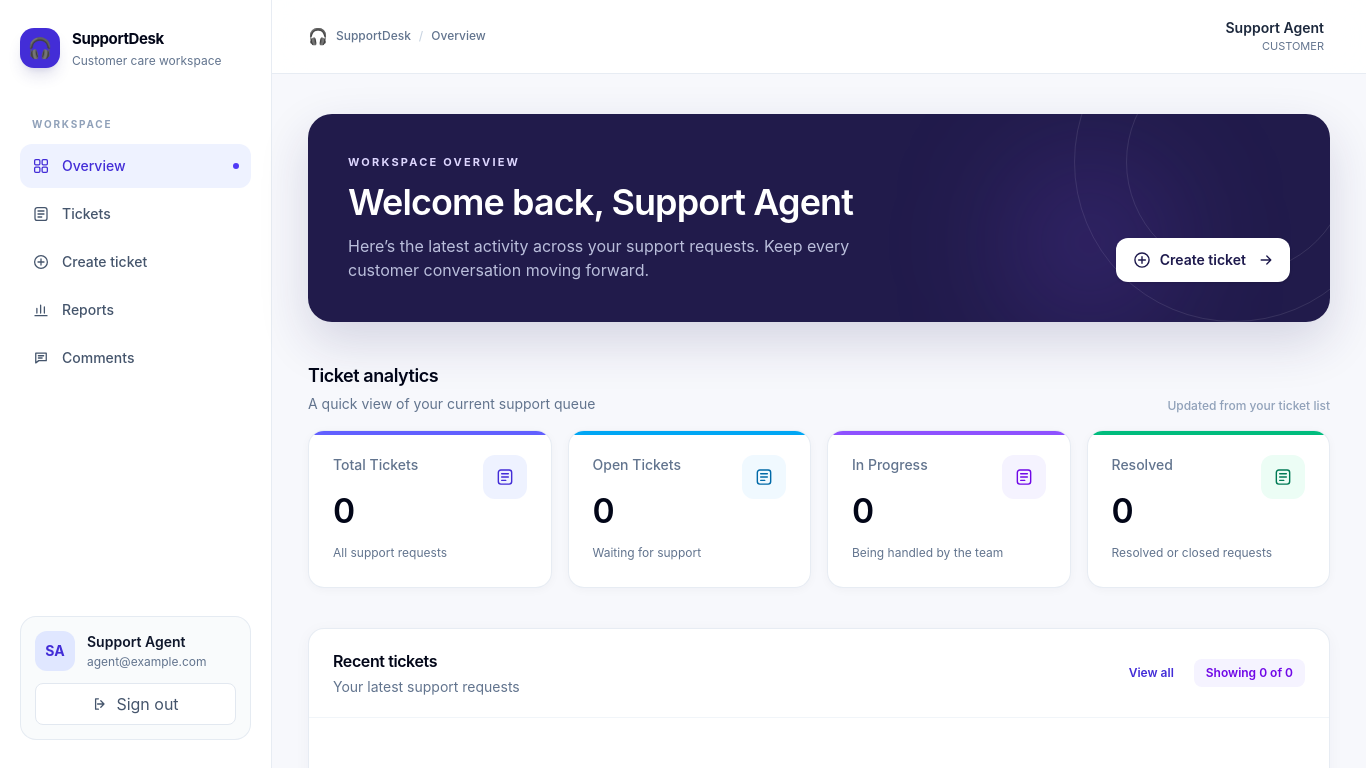
Scenario: SupportDesk frontend foundation › signs out by clearing the stored session and returning to login
Click the button "Sign out".
click(136, 704)  # box x1=35 y1=683 x2=236 y2=725
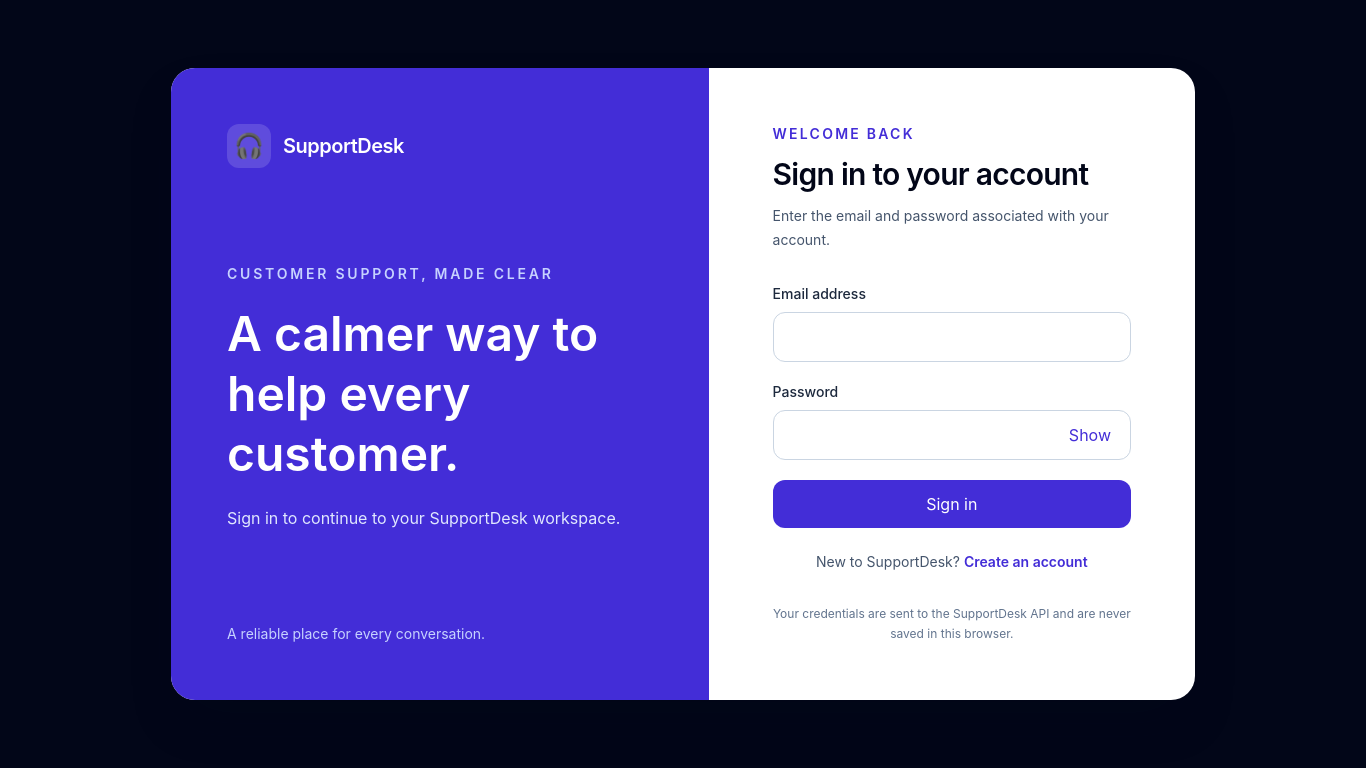
Now the heading "Sign in to your account" is shown, box x1=773 y1=156 x2=1131 y2=192
